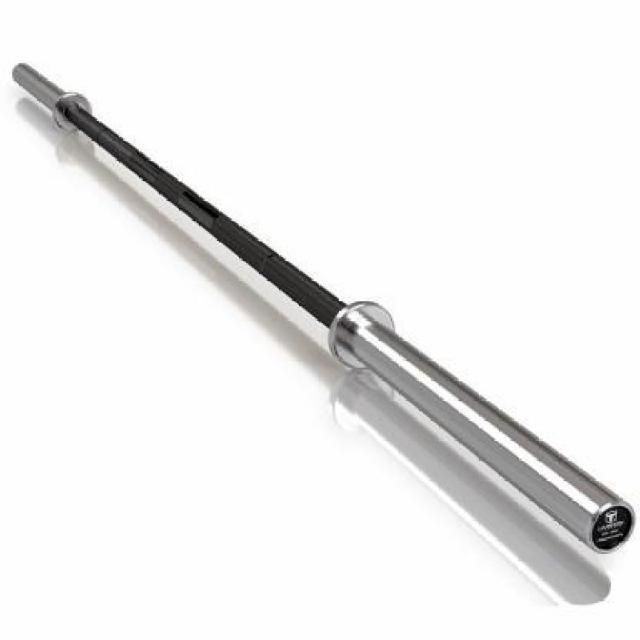Barbell: (582, 489, 640, 562)
